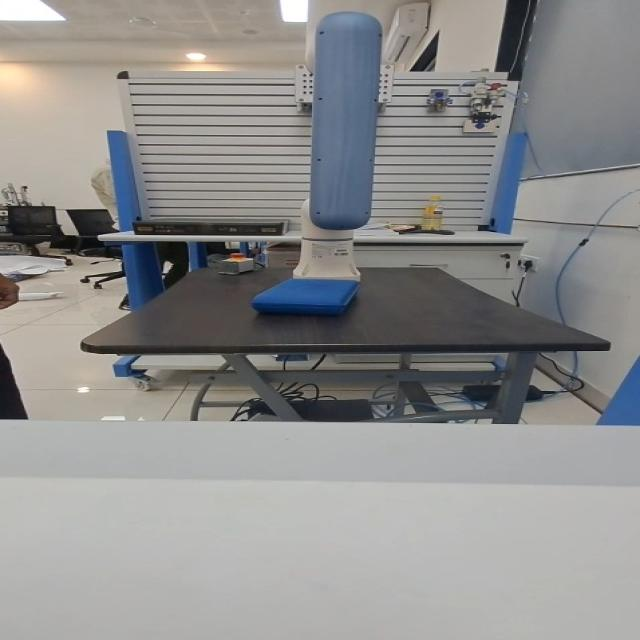top-surface: (269, 281, 347, 296)
